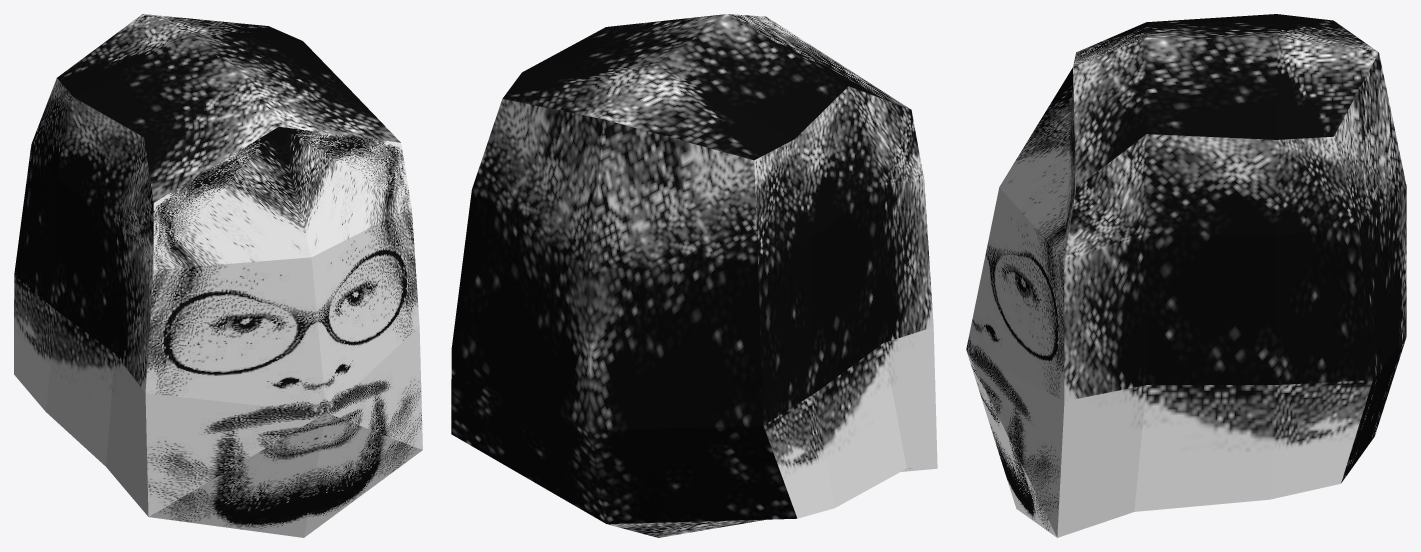
Rendered from TestFace.fbx.
3 renders of one model, left to right at view 1: azimuth 30°, elevation 25°; view 2: azimuth 150°, elevation 25°; view 3: azimuth 270°, elevation 25°, orthographic. The views are drawn at different scales.
Parts seen in each view (by area): view 1: Cube; view 2: Cube; view 3: Cube.
Boxes of the visible parts, <box> form: Cube: <box>14,14,422,537</box>; Cube: <box>451,14,937,537</box>; Cube: <box>966,14,1406,537</box>.
Bounding box in the file's own units: 153 × 210 × 178.
Materials: 1 (1 with a texture image).
